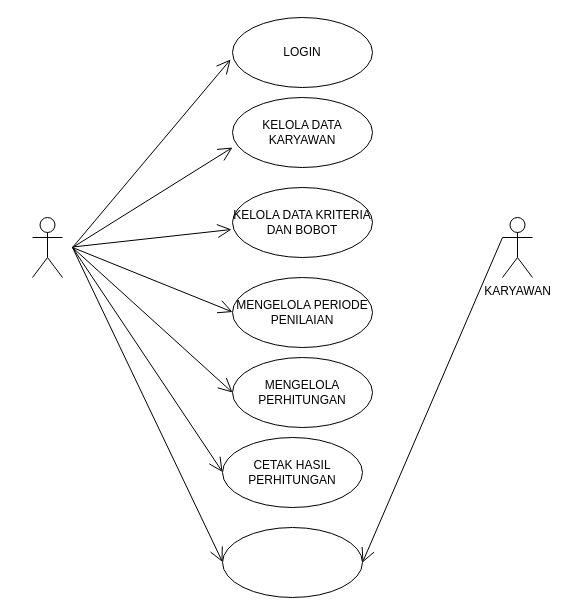
Image size: 568x615. Some labels were removed from this diagram. The box of each missing label's shape, as (x1, y1, x2, y2) in pixels:
MANAGER: (32, 216, 62, 278)
MELIHAT HASIL PERHITUNGAN: (222, 526, 362, 598)
